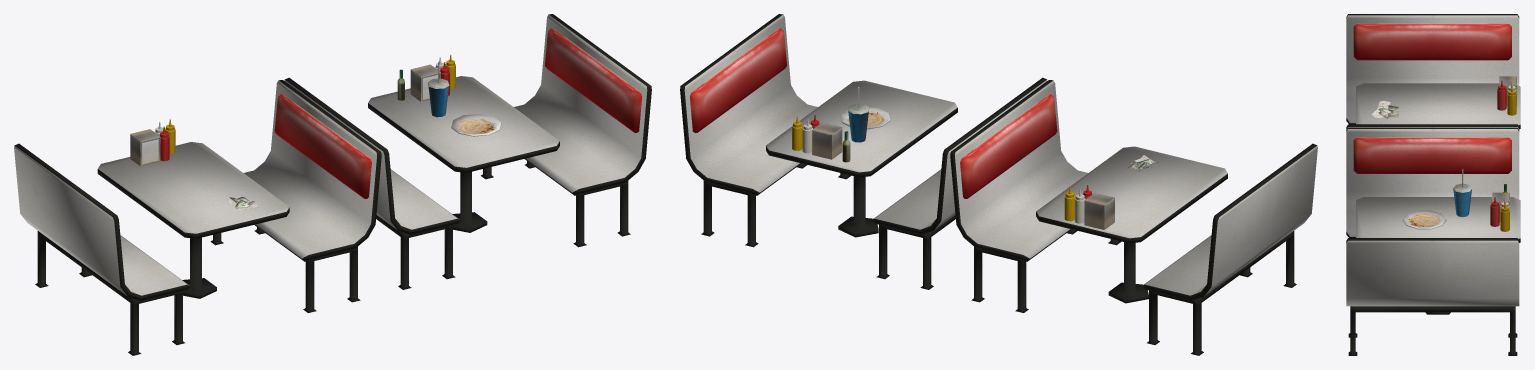
The model's file is right_apparel.glb.
3 renders of one model, left to right at view 1: azimuth 30°, elevation 25°; view 2: azimuth 150°, elevation 25°; view 3: azimuth 270°, elevation 25°, orthographic. The views are drawn at different scales.
Parts seen in each view (by area): view 1: Chair_Table.010, Chair_Table.008, Chair_Table.013, Chair_Table.011, Chair_Table.009, Chair_Table.012, napkinring.004, Dish.006, napkinring.003, vessel_Soda.009; view 2: Chair_Table.010, Chair_Table.008, Chair_Table.013, Chair_Table.011, Chair_Table.009, Chair_Table.012, napkinring.003, napkinring.004, vessel_Soda.009, Dish.006; view 3: Chair_Table.008, Chair_Table.013, Chair_Table.012, Chair_Table.011, Chair_Table.009, Chair_Table.010, Dish.006, vessel_Soda.009, Money.002, Sauces_bottle_01.009, Sauces_bottle_01.012, Sauces_bottle_01.013 (+3 smaller).
Boxes of the visible parts, left/top/right/bottom form: Chair_Table.010: left=210, top=80, right=381, bottom=312; Chair_Table.008: left=481, top=14, right=651, bottom=247; Chair_Table.013: left=14, top=143, right=189, bottom=355; Chair_Table.011: left=97, top=142, right=289, bottom=298; Chair_Table.009: left=368, top=76, right=559, bottom=232; Chair_Table.012: left=284, top=77, right=459, bottom=289; napkinring.004: left=130, top=129, right=160, bottom=166; Dish.006: left=451, top=114, right=501, bottom=136; napkinring.003: left=410, top=64, right=440, bottom=101; vessel_Soda.009: left=428, top=61, right=449, bottom=117; Chair_Table.010: left=950, top=80, right=1121, bottom=312; Chair_Table.008: left=680, top=14, right=850, bottom=247; Chair_Table.013: left=1142, top=143, right=1317, bottom=355; Chair_Table.011: left=1036, top=146, right=1227, bottom=303; Chair_Table.009: left=766, top=80, right=957, bottom=237; Chair_Table.012: left=872, top=77, right=1047, bottom=289; napkinring.003: left=812, top=122, right=842, bottom=159; napkinring.004: left=1084, top=193, right=1114, bottom=229; vessel_Soda.009: left=848, top=87, right=869, bottom=142; Dish.006: left=840, top=107, right=890, bottom=129; Chair_Table.008: left=1346, top=238, right=1519, bottom=355; Chair_Table.013: left=1346, top=14, right=1519, bottom=124; Chair_Table.012: left=1346, top=127, right=1519, bottom=237; Chair_Table.011: left=1356, top=83, right=1520, bottom=129; Chair_Table.009: left=1356, top=197, right=1520, bottom=314; Chair_Table.010: left=1346, top=124, right=1519, bottom=130; Dish.006: left=1402, top=210, right=1446, bottom=229; vessel_Soda.009: left=1453, top=169, right=1472, bottom=217; Money.002: left=1371, top=101, right=1398, bottom=118; Sauces_bottle_01.009: left=1490, top=197, right=1499, bottom=226; Sauces_bottle_01.012: left=1497, top=81, right=1506, bottom=110; Sauces_bottle_01.013: left=1507, top=86, right=1516, bottom=115.
Bounding box in the file's own units: 4.59 × 1.26 × 1.49.
Materials: 7 (7 with a texture image).
